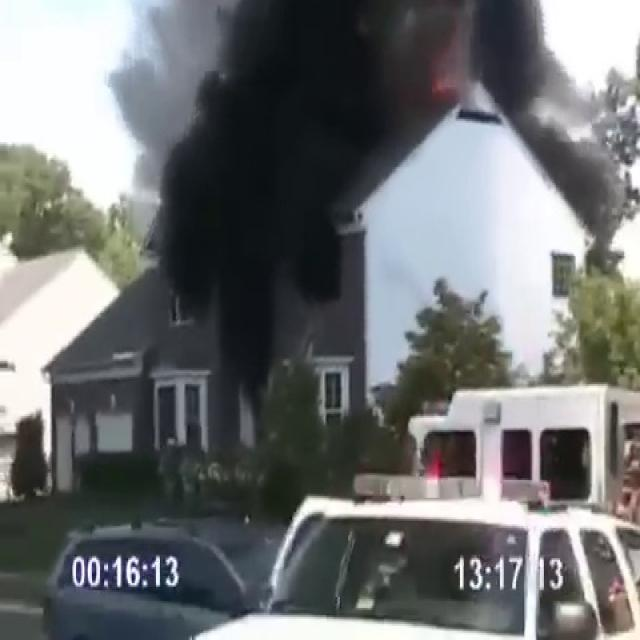Smoke: (130, 0, 550, 309)
